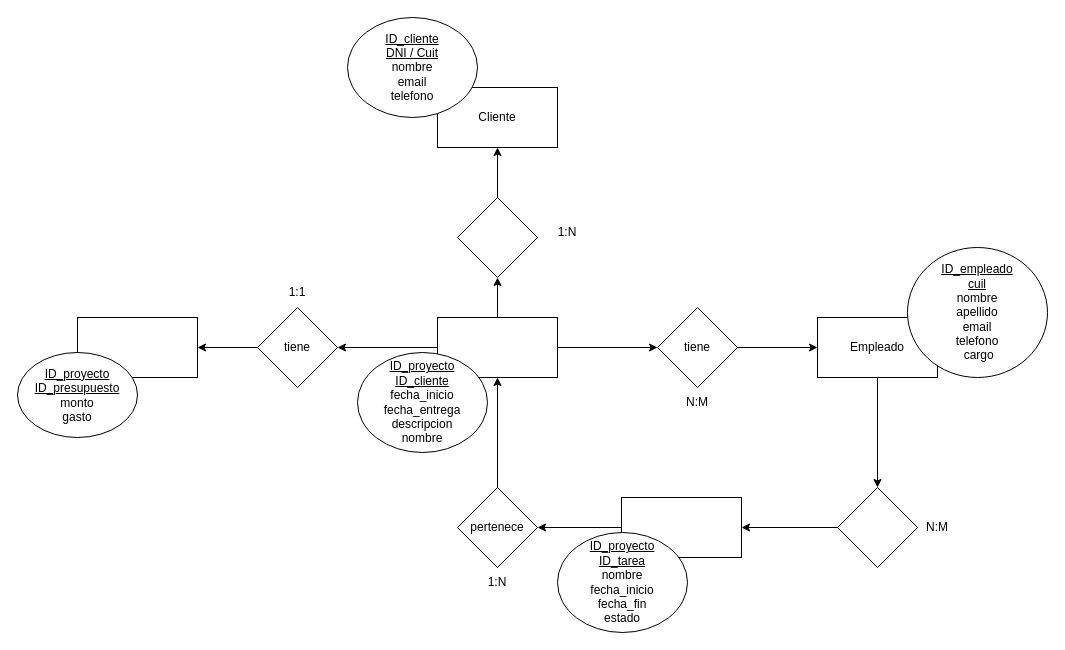
Some shapes in this 1065 by 650 pixel diagram are drawn without their labels. Here are the shapes that lost their labels. From the top down, the box of each, then its label:
(456, 196, 538, 278): para
(76, 316, 198, 378): presupuesto
(436, 316, 558, 378): Proyecto
(620, 496, 742, 558): Tareas
(836, 486, 918, 568): realiza
